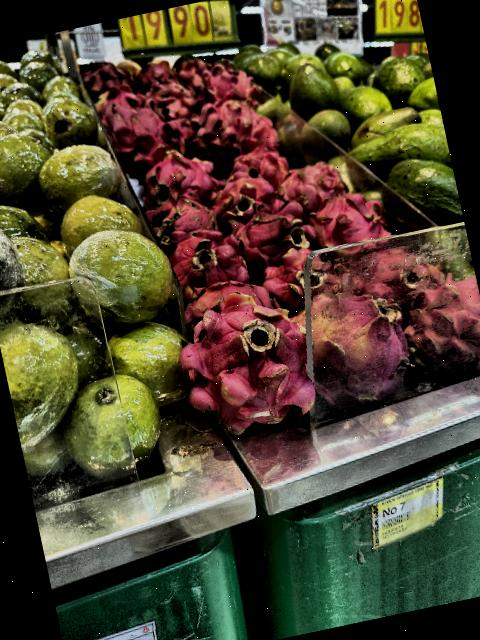buah-naga-belum-matang: (282, 277, 430, 430), (187, 85, 289, 168), (127, 139, 224, 213)
buah-naga-matang: (172, 284, 336, 448), (397, 272, 480, 387), (302, 182, 406, 270), (163, 218, 256, 298), (256, 244, 352, 316), (103, 98, 186, 172), (183, 272, 283, 332), (226, 200, 314, 268), (267, 150, 351, 215), (146, 187, 229, 246), (209, 174, 290, 233), (221, 142, 298, 194)
